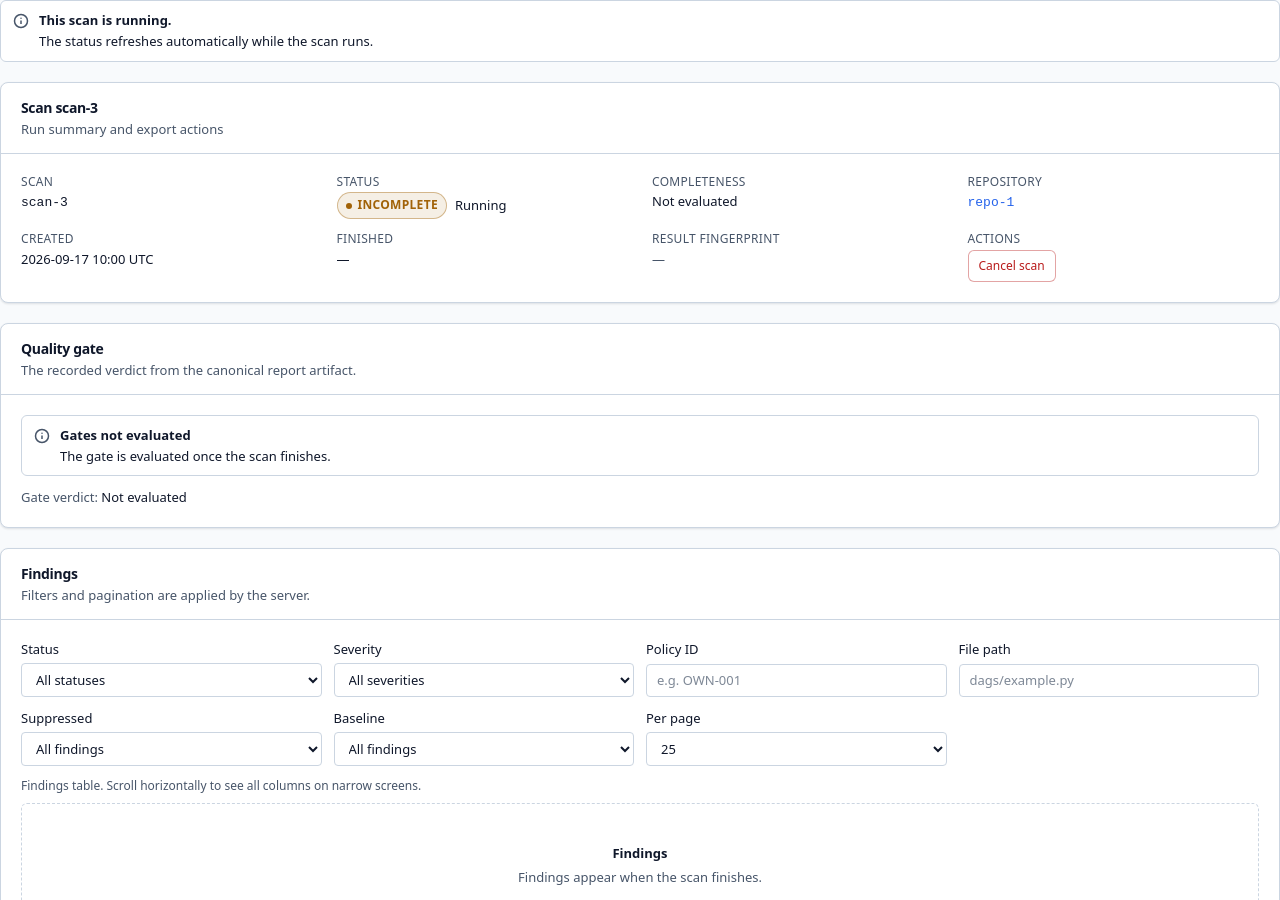
Test case: ScanPage › surfaces a conflict when cancellation is rejected
Click the button "Cancel scan" at coordinates (1012, 266), box left=968, top=250, right=1056, bottom=282
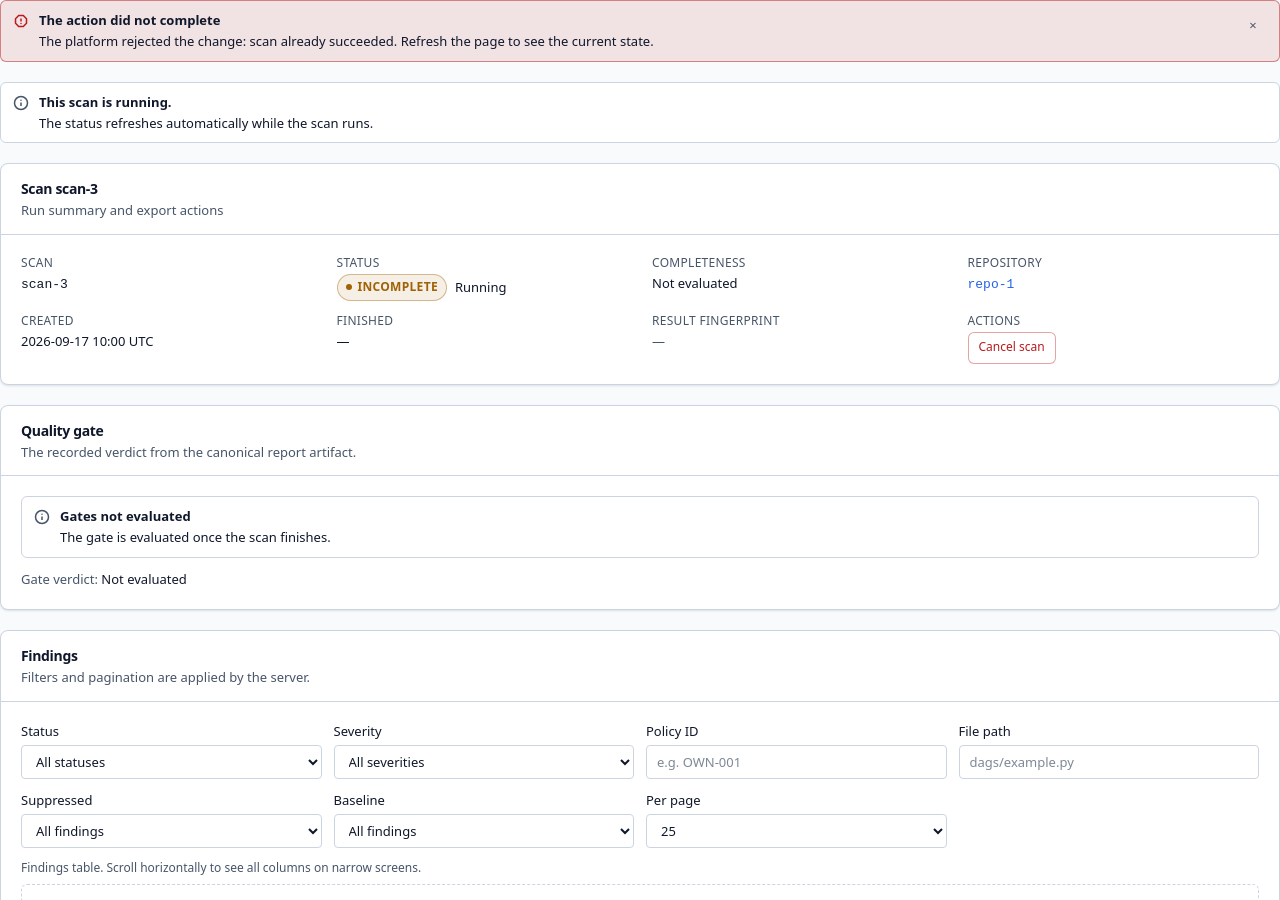
Expected: the message that starts with "The action did not complete" shows "rejected", left=39, top=32, right=654, bottom=50
Expected: the message that starts with "The action did not complete" shows "scan already succeeded", left=39, top=32, right=654, bottom=50
